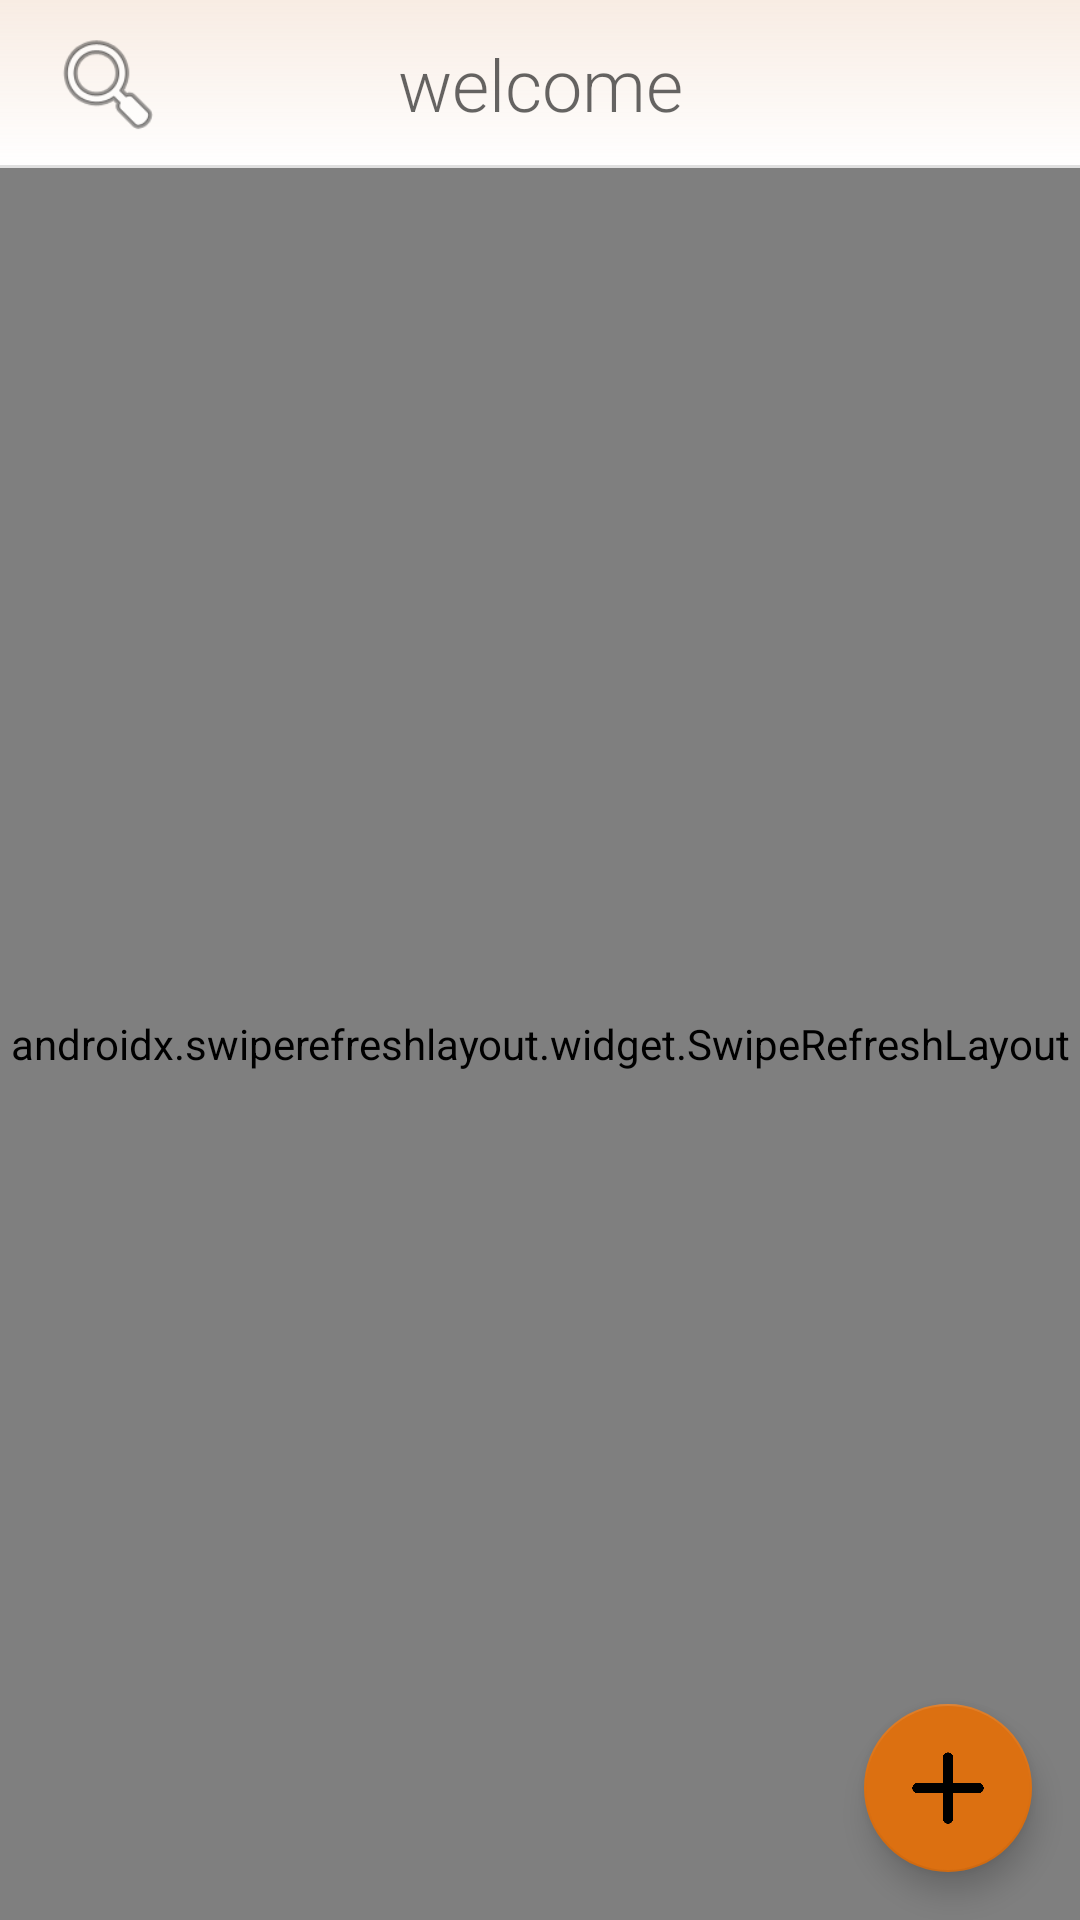

Icon click points for this 1080x1920 phone screenshot, format [x,y]:
addicon: [948,1788]
search: [108,84]
